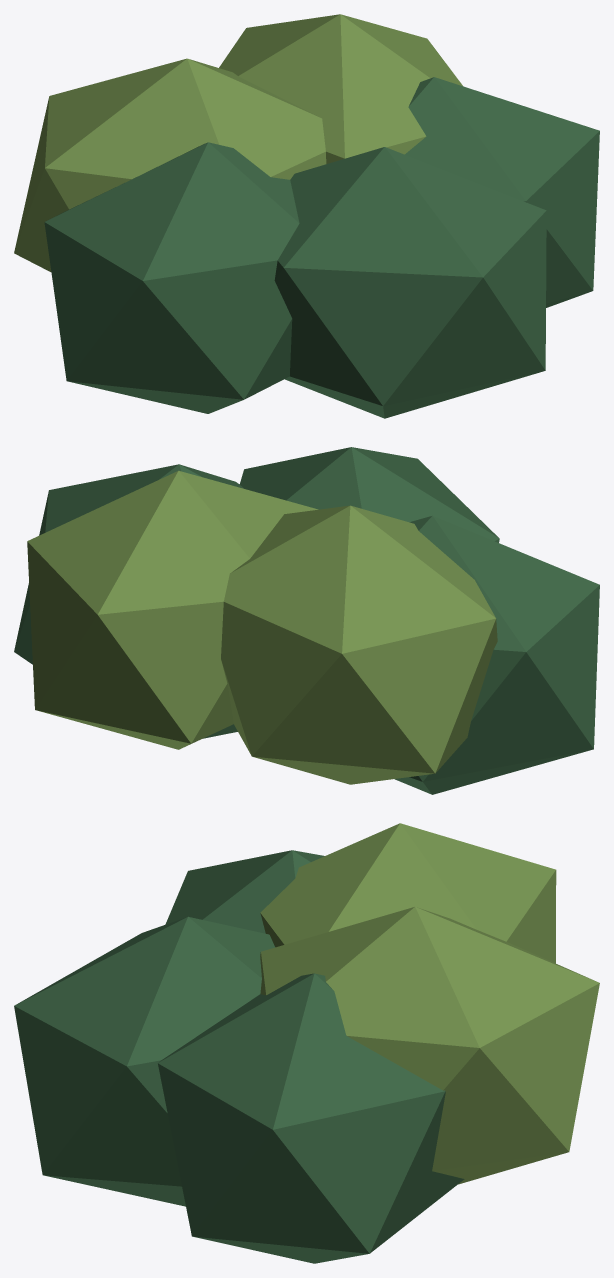
The model's file is Bush_B.fbx.
3 views of the same model, one above another, from view 1: azimuth 30°, elevation 25°; view 2: azimuth 150°, elevation 25°; view 3: azimuth 270°, elevation 25° (orthographic). The views are drawn at different scales.
Visible parts, largest first — view 1: Bush_B; view 2: Bush_B; view 3: Bush_B.
Part boxes in pixels (left/top/right/bottom): Bush_B: left=14, top=14, right=599, bottom=418; Bush_B: left=14, top=447, right=599, bottom=794; Bush_B: left=14, top=823, right=599, bottom=1263.
Size of the model in its own units: 0.9694 by 0.5424 by 0.8657.
1 material, 1 textured.
